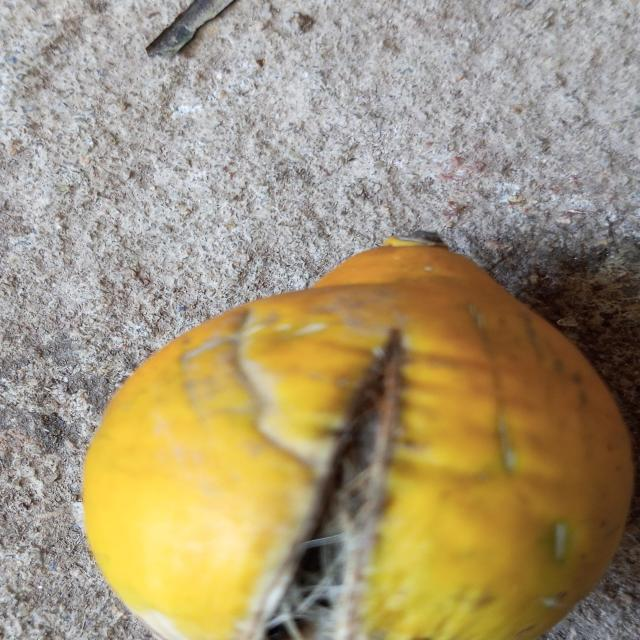damaged: (81, 239, 636, 640)
